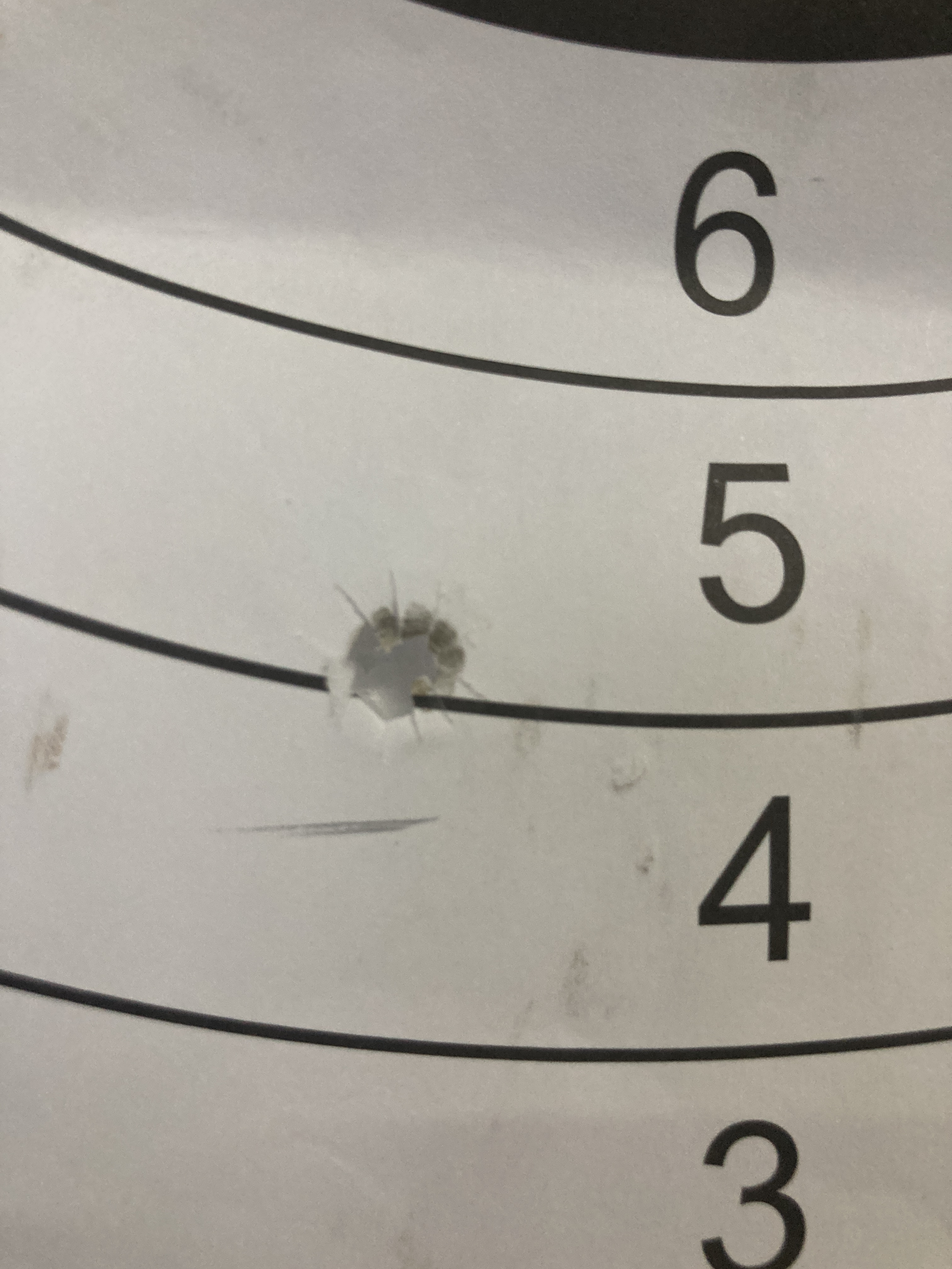hole: (280, 535, 494, 762)
